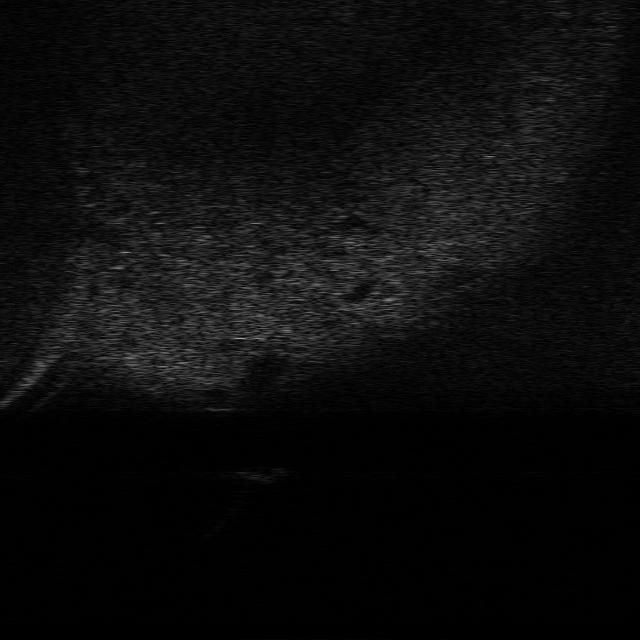cube: (234, 460, 288, 485)
